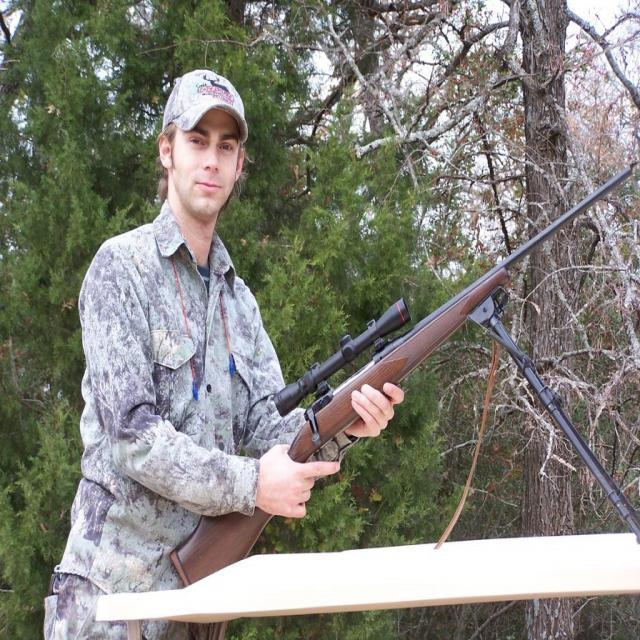weapon: (170, 167, 632, 588)
